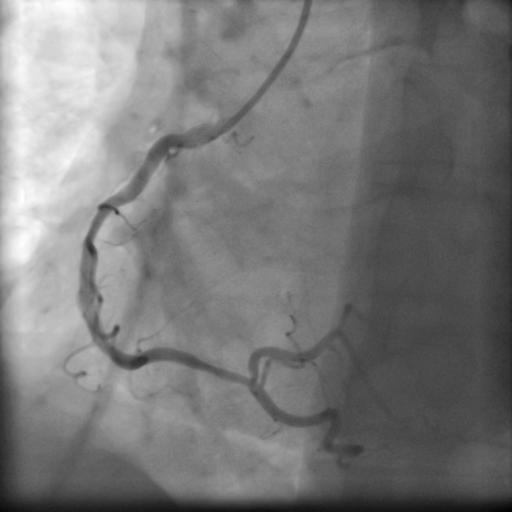Stenosis: (197, 354, 248, 391)
